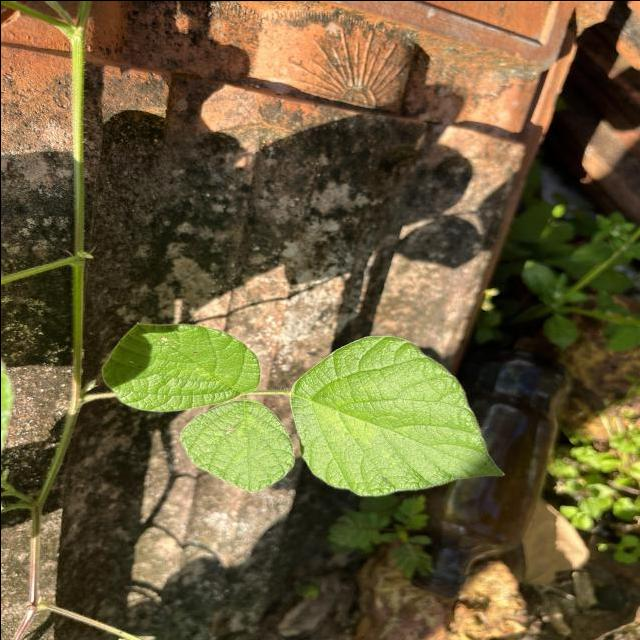Pseudarthria viscida: (96, 317, 508, 498)
